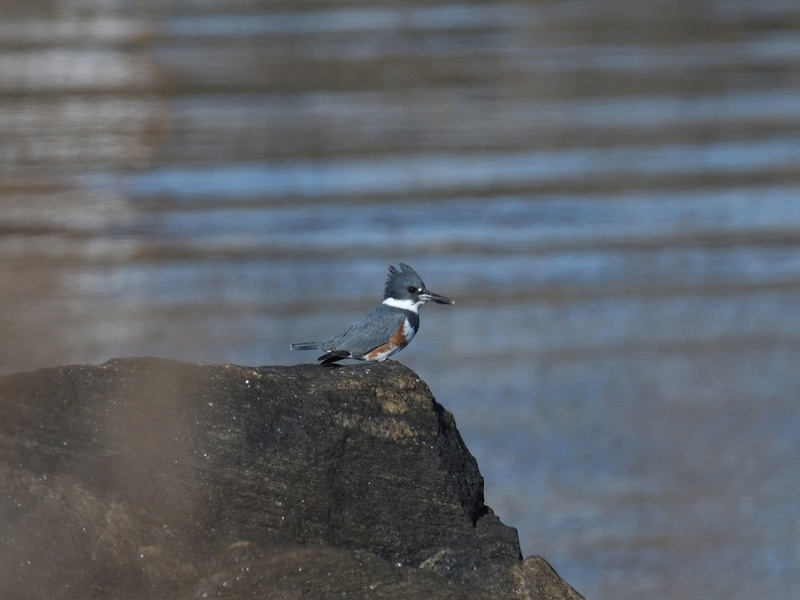kingfisher: (288, 262, 454, 371)
